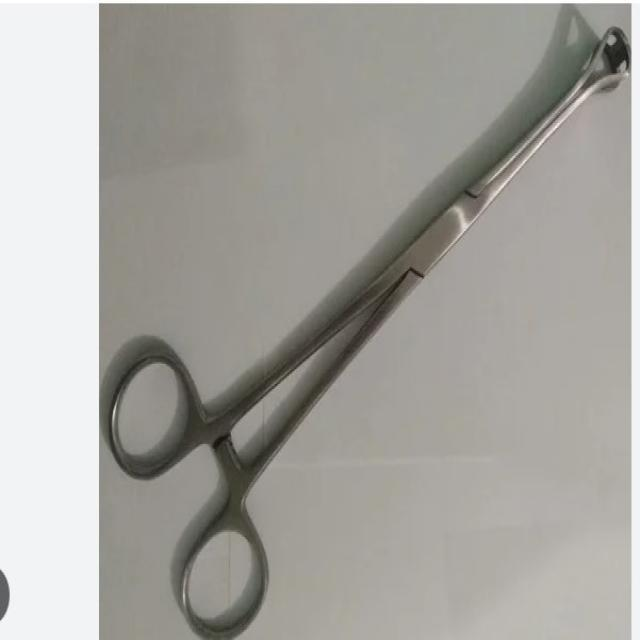Babcock Forceps: (108, 12, 631, 640)
